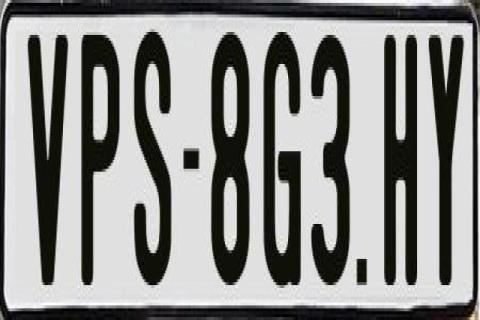0: (208, 29, 252, 294), (309, 35, 351, 294)
G: (262, 27, 306, 297)
H: (381, 26, 419, 276)
P: (81, 35, 121, 291)
S: (134, 27, 176, 280)
V: (25, 35, 65, 285)
Y: (429, 35, 465, 285)
